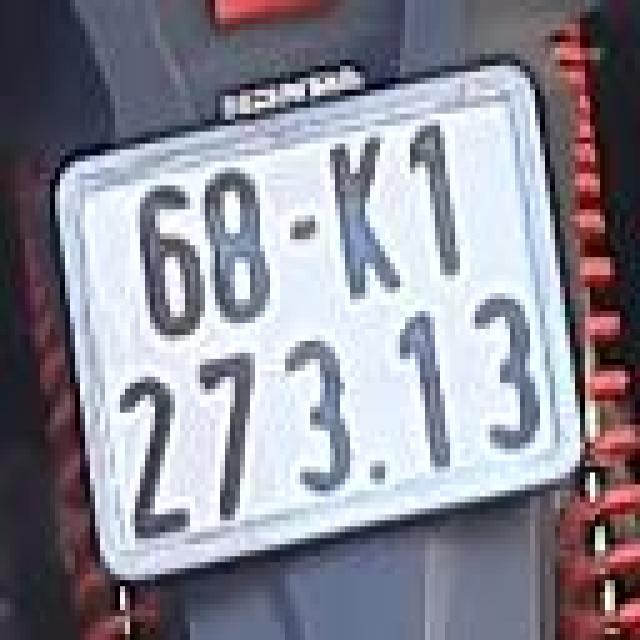1: (382, 289, 480, 500), (393, 87, 489, 295)
2: (98, 355, 207, 570)
3: (259, 315, 383, 523), (458, 282, 581, 479)
6: (117, 174, 228, 369)
7: (181, 325, 287, 556)
8: (192, 153, 289, 338)
K: (299, 100, 419, 329)
